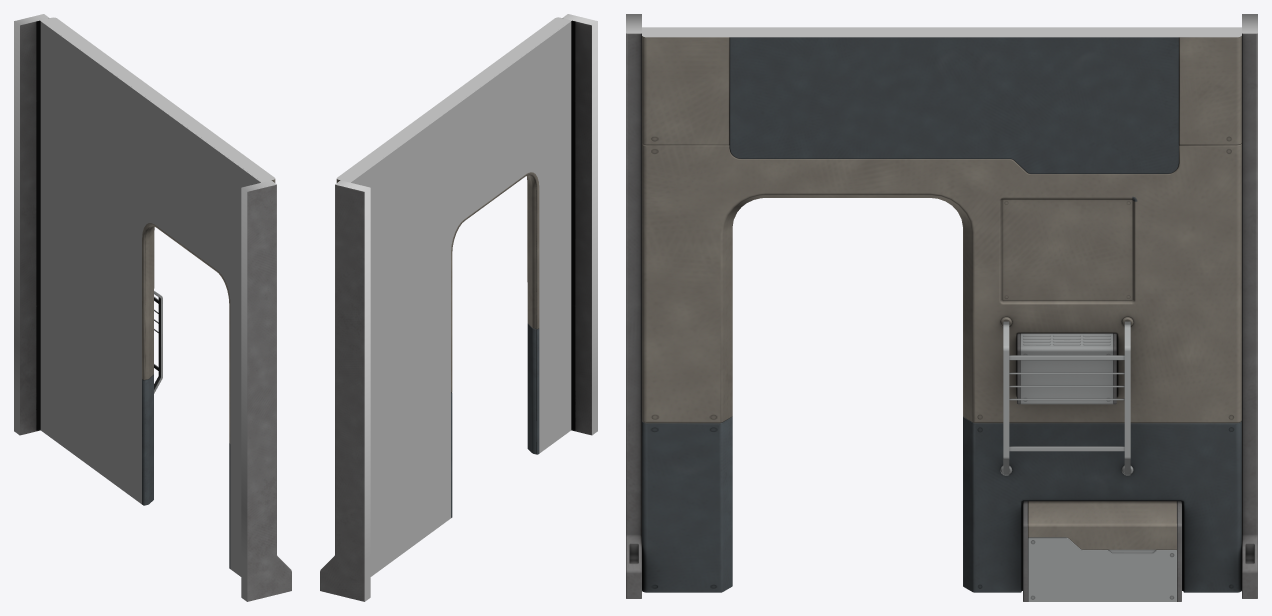
Rendered from SM_RoomStyle01_WcDoor.fbx.
3 renders of one model, left to right at view 1: azimuth 30°, elevation 25°; view 2: azimuth 150°, elevation 25°; view 3: azimuth 270°, elevation 25°, orthographic. The views are drawn at different scales.
Parts seen in each view (by area): view 1: SM_RoomStyle01_WcDoor_LOD0; view 2: SM_RoomStyle01_WcDoor_LOD0; view 3: SM_RoomStyle01_WcDoor_LOD0.
Part boxes in pixels (x1,y1,x2,y2): SM_RoomStyle01_WcDoor_LOD0: (14,14,291,601); SM_RoomStyle01_WcDoor_LOD0: (320,14,597,601); SM_RoomStyle01_WcDoor_LOD0: (626,14,1257,601).
Size of the model in its own units: 40.97 by 300 by 291.
Materials: 2 (1 with a texture image).
